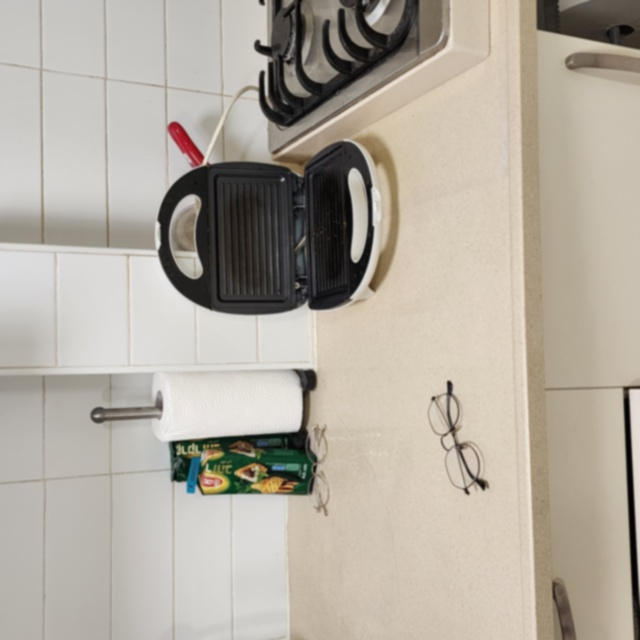glasses: (423, 376, 492, 498), (300, 424, 333, 517)
